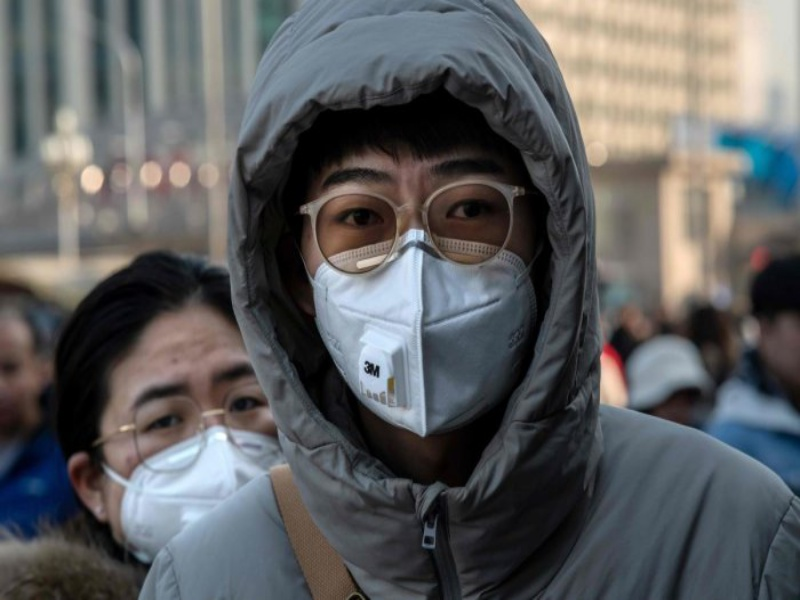ManaoArotava: (283, 130, 546, 447), (54, 283, 306, 560)
